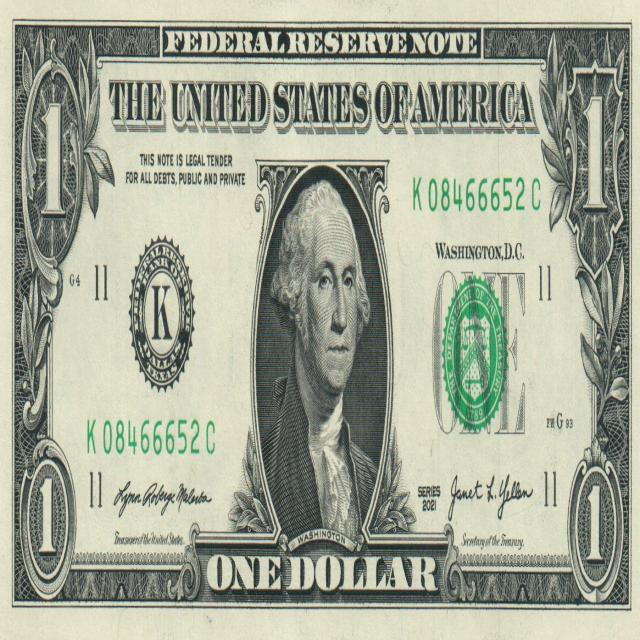SerialNumber: (87, 419, 214, 455), (414, 178, 540, 212)
